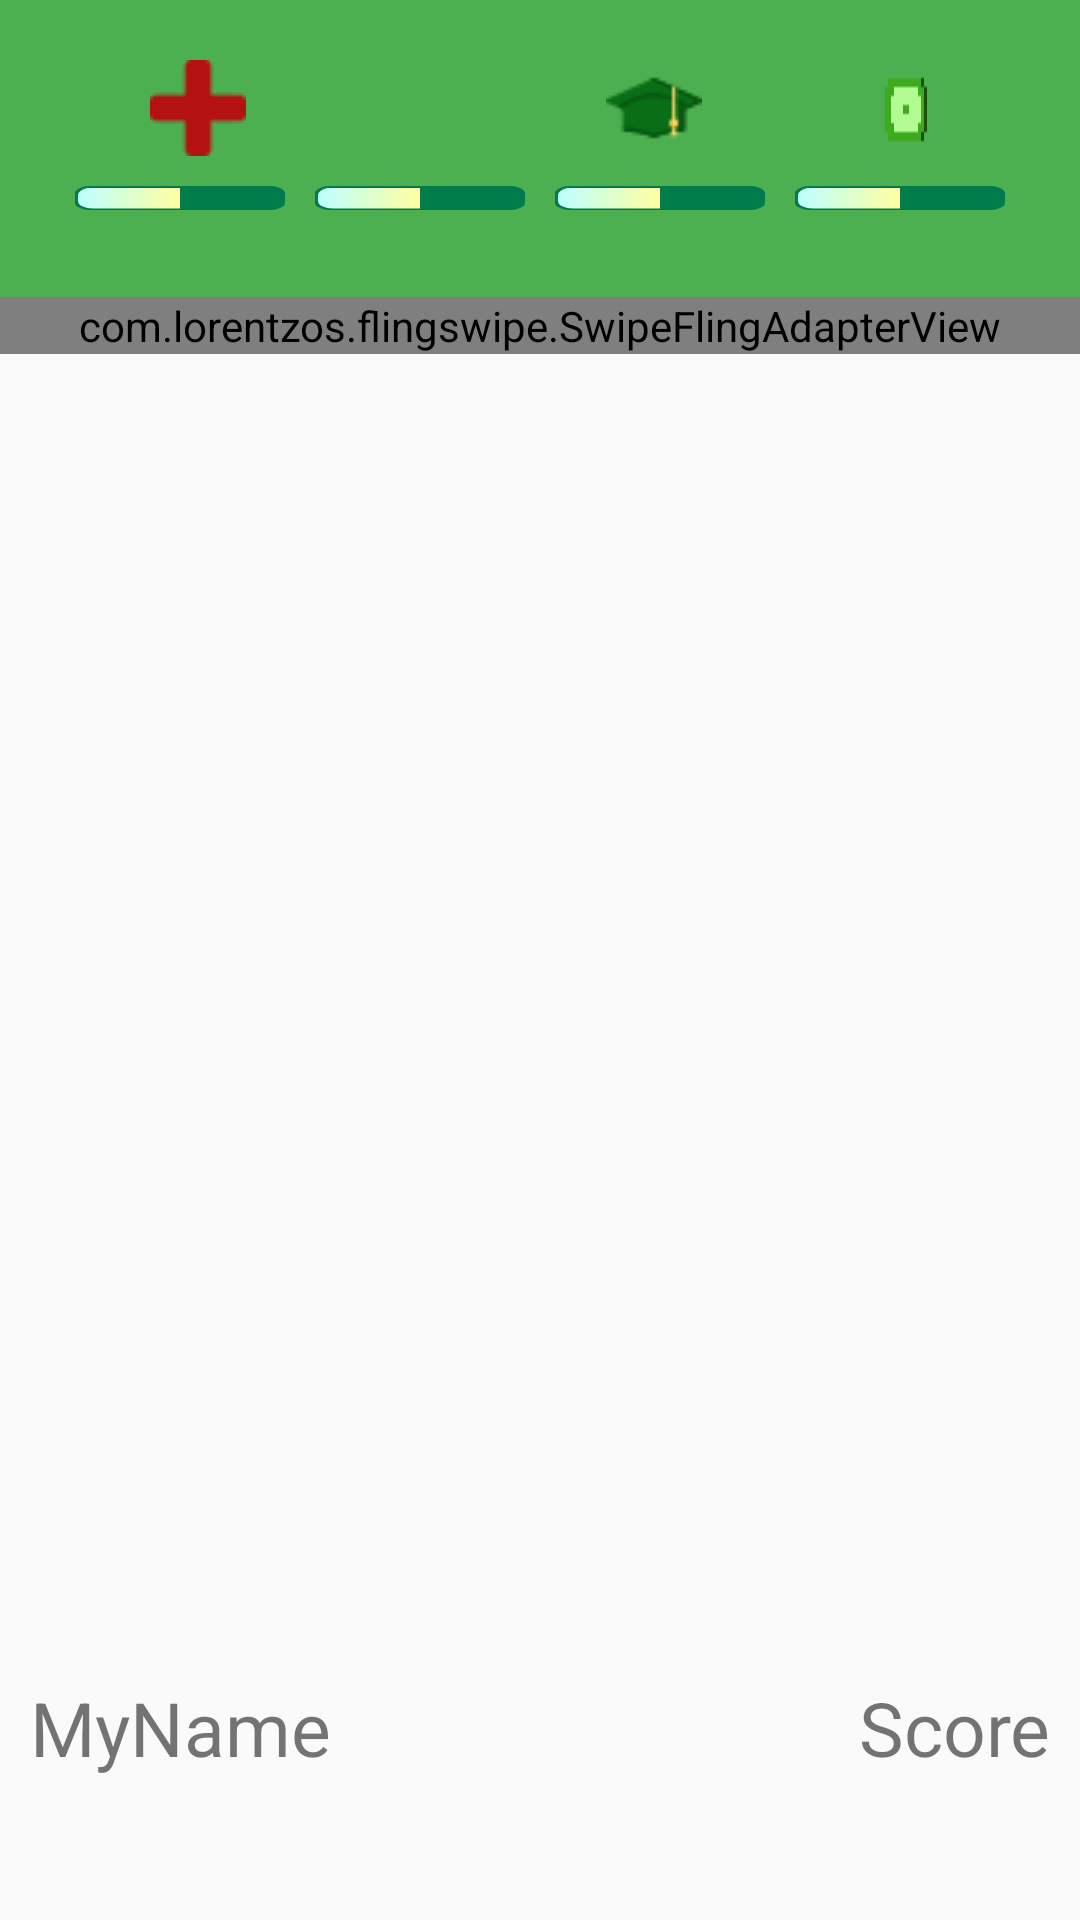

Screen size 1080 × 1920. Icon name, then its center in pixels as [x,y]:
grades: [654,108]
health: [198,108]
money: [906,109]
